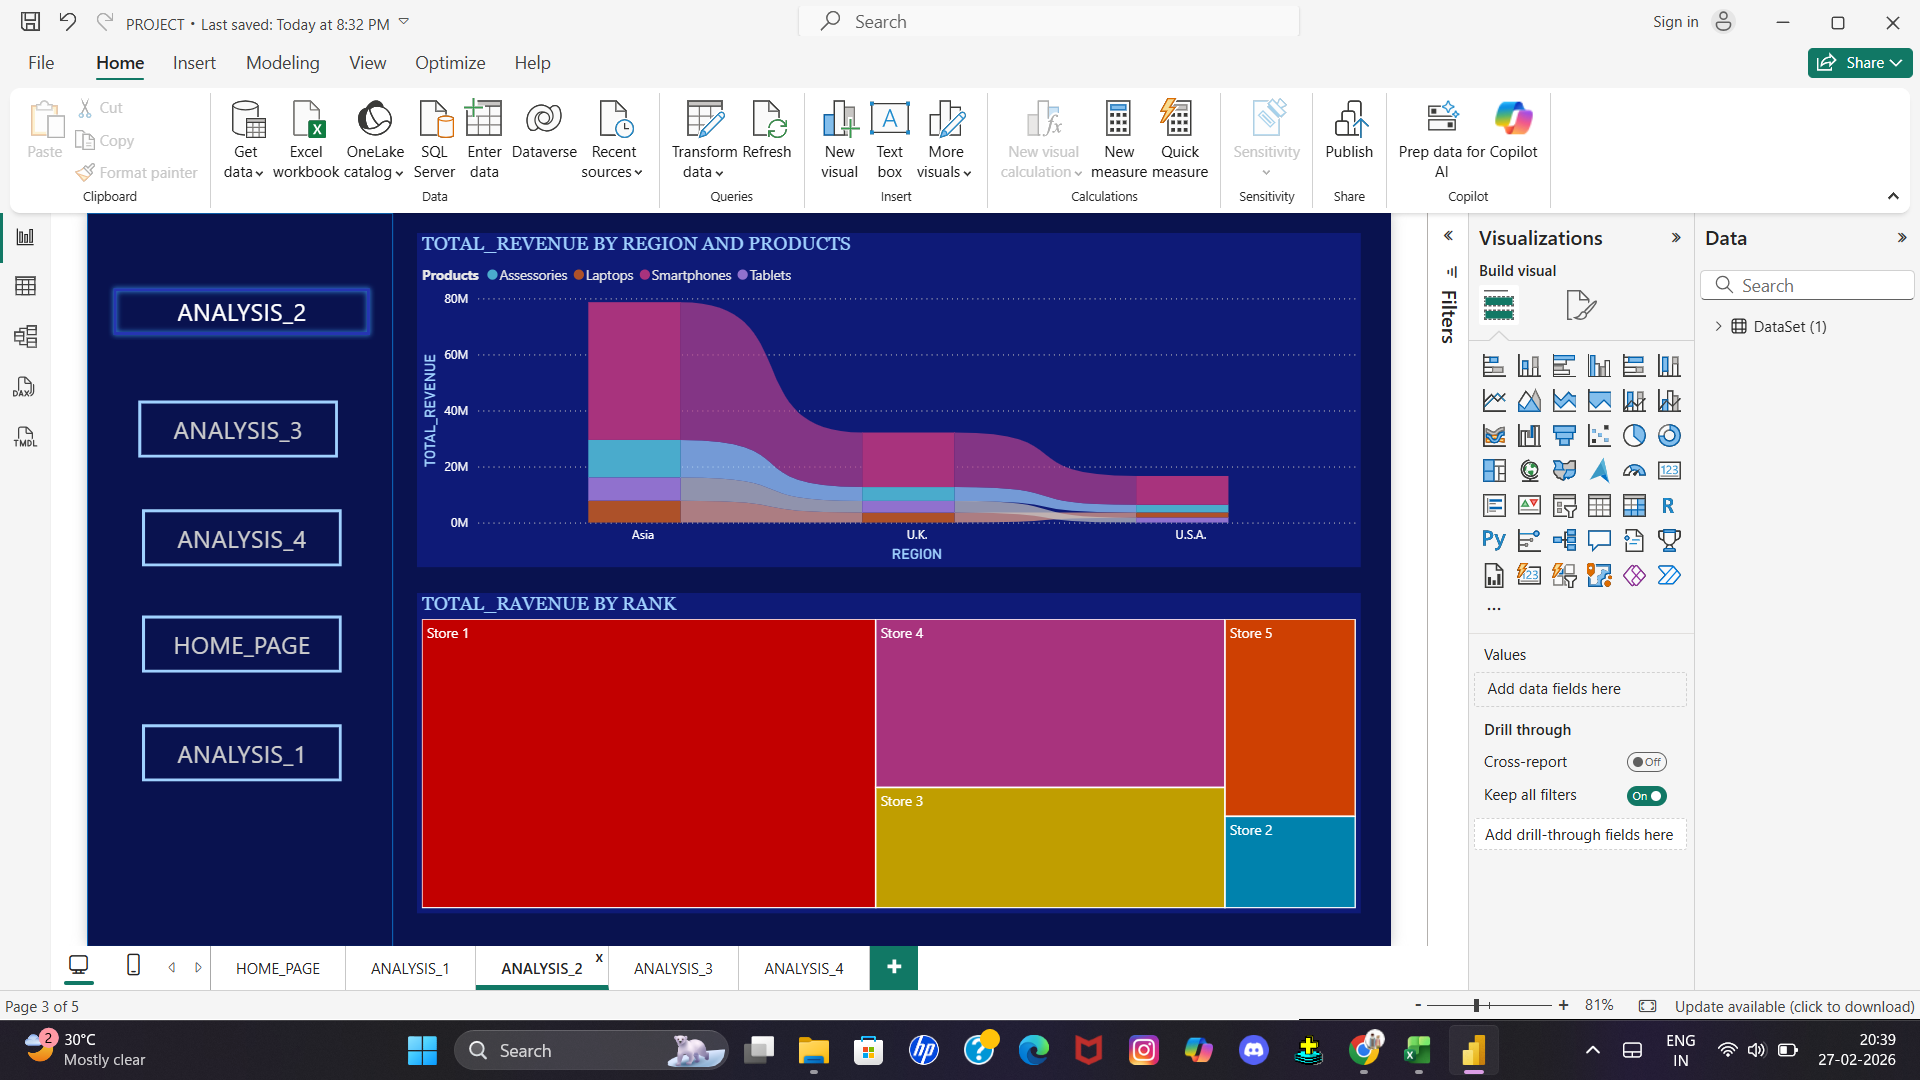

Layout of this report page (visuals, bound fields, positions):
{"tool":"powerbi","page":{"name":"ANALYSIS_2","canvas":[1280,720],"ordinal":2},"visuals":[{"type":"shape","box":[0,0,300.5,720.4],"z":0},{"type":"actionButton","box":[50.8,183.9,196.2,56.3],"z":2000},{"type":"actionButton","box":[20.6,68.6,262.1,56.3],"z":3000},{"type":"actionButton","box":[53.5,290.9,196.2,56.3],"z":4000},{"type":"actionButton","box":[53.5,502.2,196.2,56.3],"z":5000},{"type":"ribbonChart","title":"TOTAL_REVENUE BY REGION AND PRODUCTS","fields":{"Category":["DataSet (1).Region"],"Y":["Sum(DataSet (1).Revenue (USD))"],"Series":["DataSet (1).Products"]},"box":[323.8,19.2,926.2,328],"z":6000},{"type":"treemap","title":"TOTAL_RAVENUE BY RANK","fields":{"Values":["Sum(DataSet (1).Revenue (USD))"],"Details":["DataSet (1).Rank"]},"box":[323.8,373.2,926.2,314.2],"z":7000},{"type":"actionButton","box":[53.5,395.2,196.2,56.3],"z":8000}]}

Visuals, with their boxes on the page's 1280x720 design canvas (x1, y1, x2, y2). These are canvas units, not pixel positions in the 1920x1080 screenshot, which may show the page scaled, cropped or inside an application window:
shape: x1=0 y1=0 x2=300 y2=720
actionButton: x1=51 y1=184 x2=247 y2=240
actionButton: x1=21 y1=69 x2=283 y2=125
actionButton: x1=54 y1=291 x2=250 y2=347
actionButton: x1=54 y1=502 x2=250 y2=558
"TOTAL_REVENUE BY REGION AND PRODUCTS" ribbonChart: x1=324 y1=19 x2=1250 y2=347
"TOTAL_RAVENUE BY RANK" treemap: x1=324 y1=373 x2=1250 y2=687
actionButton: x1=54 y1=395 x2=250 y2=452
